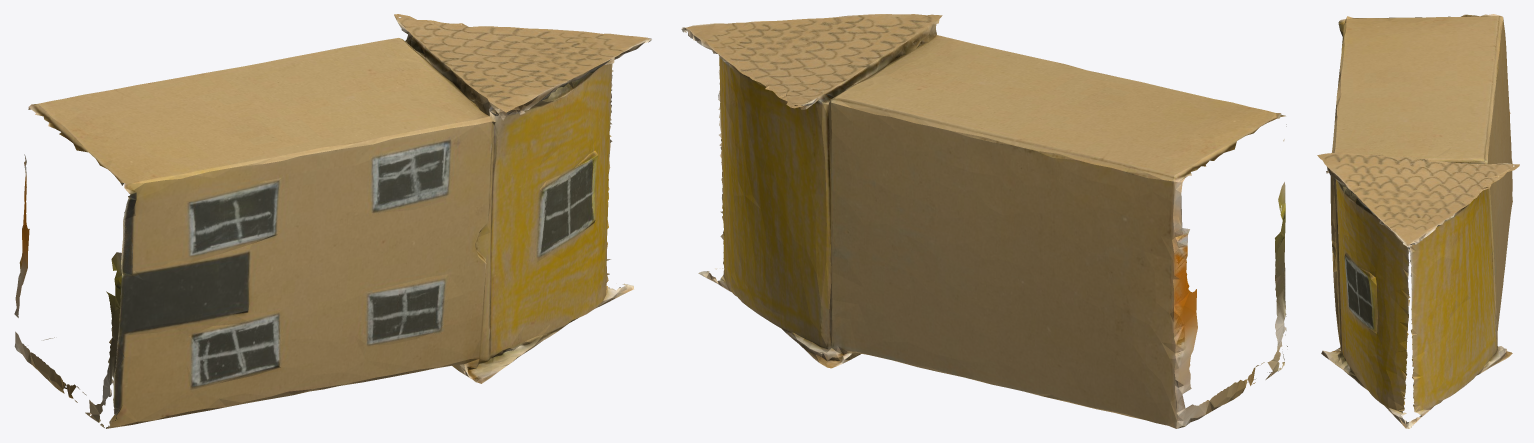
The model's file is m8_5K_1024tex.glb.
3 views of the same model, side by side, from view 1: azimuth 30°, elevation 25°; view 2: azimuth 150°, elevation 25°; view 3: azimuth 270°, elevation 25° (orthographic). The views are drawn at different scales.
Bounding box in the file's own units: 5.18 × 2.36 × 2.03.
Materials: 1 (1 with a texture image).
